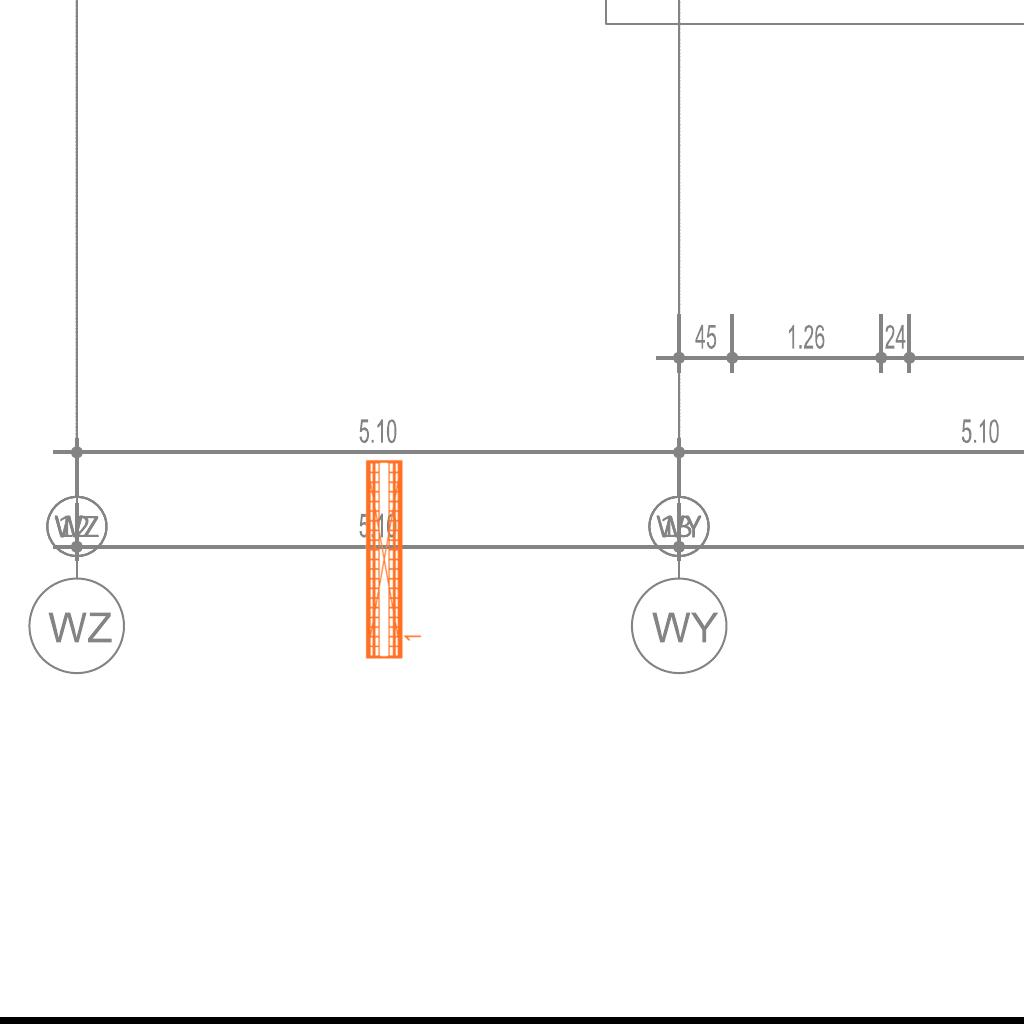Buero_Pendelleuchten_LED: (361, 456, 426, 662)
